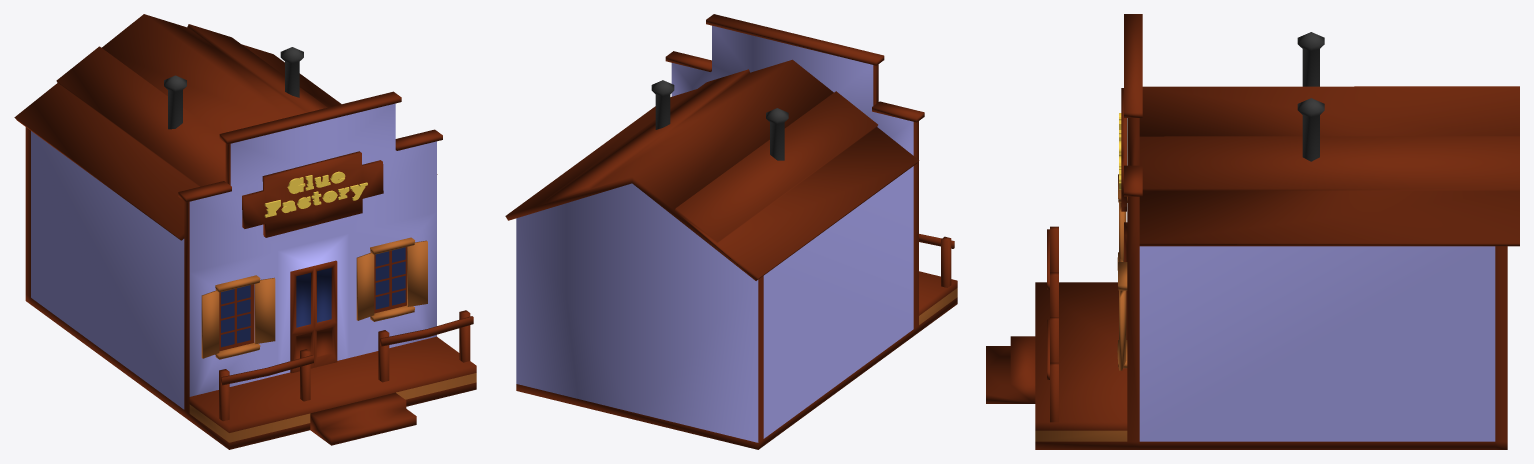
File: Western_GlueFactory_Parts.fbx
The picture shows the model from 3 angles, left to right: view 1: azimuth 30°, elevation 25°; view 2: azimuth 150°, elevation 25°; view 3: azimuth 270°, elevation 25°; orthographic projection. The views are drawn at different scales.
Parts seen in each view (by area): view 1: WesternBuilding__Shop_GlueFactory.Parts.024, WesternBuilding__Shop_GlueFactory.Parts, WesternBuilding__Shop_GlueFactory.Parts.002, WesternBuilding__Shop_GlueFactory.Parts.005, WesternBuilding__Shop_GlueFactory.Parts.001, WesternBuilding__Shop_GlueFactory.Parts.022, WesternBuilding__Shop_GlueFactory.Parts.006, WesternBuilding__Shop_GlueFactory.Parts.013, WesternBuilding__Shop_GlueFactory.Parts.007, WesternBuilding__Shop_GlueFactory.Parts.011, WesternBuilding__Shop_GlueFactory.Parts.014, WesternBuilding__Shop_GlueFactory.Parts.019 (+8 smaller); view 2: WesternBuilding__Shop_GlueFactory.Parts, WesternBuilding__Shop_GlueFactory.Parts.002, WesternBuilding__Shop_GlueFactory.Parts.024, WesternBuilding__Shop_GlueFactory.Parts.001, WesternBuilding__Shop_GlueFactory.Parts.022, WesternBuilding__Shop_GlueFactory.Parts.003, WesternBuilding__Shop_GlueFactory.Parts.004, WesternBuilding__Shop_GlueFactory.Parts.023, WesternBuilding__Shop_GlueFactory.Parts.021, WesternBuilding__Shop_GlueFactory.Parts.020; view 3: WesternBuilding__Shop_GlueFactory.Parts, WesternBuilding__Shop_GlueFactory.Parts.001, WesternBuilding__Shop_GlueFactory.Parts.024, WesternBuilding__Shop_GlueFactory.Parts.022, WesternBuilding__Shop_GlueFactory.Parts.004, WesternBuilding__Shop_GlueFactory.Parts.003, WesternBuilding__Shop_GlueFactory.Parts.005, WesternBuilding__Shop_GlueFactory.Parts.013, WesternBuilding__Shop_GlueFactory.Parts.021, WesternBuilding__Shop_GlueFactory.Parts.017.
Part boxes in pixels (bbox=[...]): WesternBuilding__Shop_GlueFactory.Parts.024: bbox=[184, 103, 476, 449]; WesternBuilding__Shop_GlueFactory.Parts: bbox=[25, 127, 184, 416]; WesternBuilding__Shop_GlueFactory.Parts.002: bbox=[14, 14, 284, 240]; WesternBuilding__Shop_GlueFactory.Parts.005: bbox=[242, 151, 383, 237]; WesternBuilding__Shop_GlueFactory.Parts.001: bbox=[144, 14, 437, 174]; WesternBuilding__Shop_GlueFactory.Parts.022: bbox=[219, 91, 401, 144]; WesternBuilding__Shop_GlueFactory.Parts.006: bbox=[254, 277, 275, 343]; WesternBuilding__Shop_GlueFactory.Parts.013: bbox=[407, 240, 427, 306]; WesternBuilding__Shop_GlueFactory.Parts.007: bbox=[201, 290, 219, 358]; WesternBuilding__Shop_GlueFactory.Parts.011: bbox=[356, 252, 374, 320]; WesternBuilding__Shop_GlueFactory.Parts.014: bbox=[380, 316, 473, 346]; WesternBuilding__Shop_GlueFactory.Parts.019: bbox=[221, 355, 313, 385]; WesternBuilding__Shop_GlueFactory.Parts: bbox=[516, 166, 913, 449]; WesternBuilding__Shop_GlueFactory.Parts.002: bbox=[632, 60, 919, 280]; WesternBuilding__Shop_GlueFactory.Parts.024: bbox=[671, 25, 957, 335]; WesternBuilding__Shop_GlueFactory.Parts.001: bbox=[505, 60, 791, 220]; WesternBuilding__Shop_GlueFactory.Parts.022: bbox=[706, 14, 884, 65]; WesternBuilding__Shop_GlueFactory.Parts.003: bbox=[766, 108, 788, 160]; WesternBuilding__Shop_GlueFactory.Parts.004: bbox=[651, 80, 674, 129]; WesternBuilding__Shop_GlueFactory.Parts.023: bbox=[872, 101, 924, 122]; WesternBuilding__Shop_GlueFactory.Parts.021: bbox=[665, 51, 711, 71]; WesternBuilding__Shop_GlueFactory.Parts.020: bbox=[941, 236, 951, 287]; WesternBuilding__Shop_GlueFactory.Parts: bbox=[1139, 246, 1507, 449]; WesternBuilding__Shop_GlueFactory.Parts.001: bbox=[1139, 86, 1519, 246]; WesternBuilding__Shop_GlueFactory.Parts.024: bbox=[986, 118, 1139, 449]; WesternBuilding__Shop_GlueFactory.Parts.022: bbox=[1124, 14, 1142, 117]; WesternBuilding__Shop_GlueFactory.Parts.004: bbox=[1297, 98, 1324, 161]; WesternBuilding__Shop_GlueFactory.Parts.003: bbox=[1297, 32, 1324, 86]; WesternBuilding__Shop_GlueFactory.Parts.005: bbox=[1119, 88, 1126, 211]; WesternBuilding__Shop_GlueFactory.Parts.013: bbox=[1119, 290, 1126, 370]; WesternBuilding__Shop_GlueFactory.Parts.021: bbox=[1124, 165, 1142, 196]; WesternBuilding__Shop_GlueFactory.Parts.017: bbox=[1050, 362, 1058, 422].
Bounding box in the file's own units: 566 × 570 × 870.
1 material, 1 textured.
